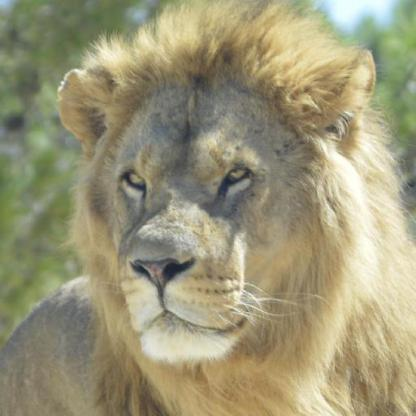lion: (57, 43, 387, 362)
